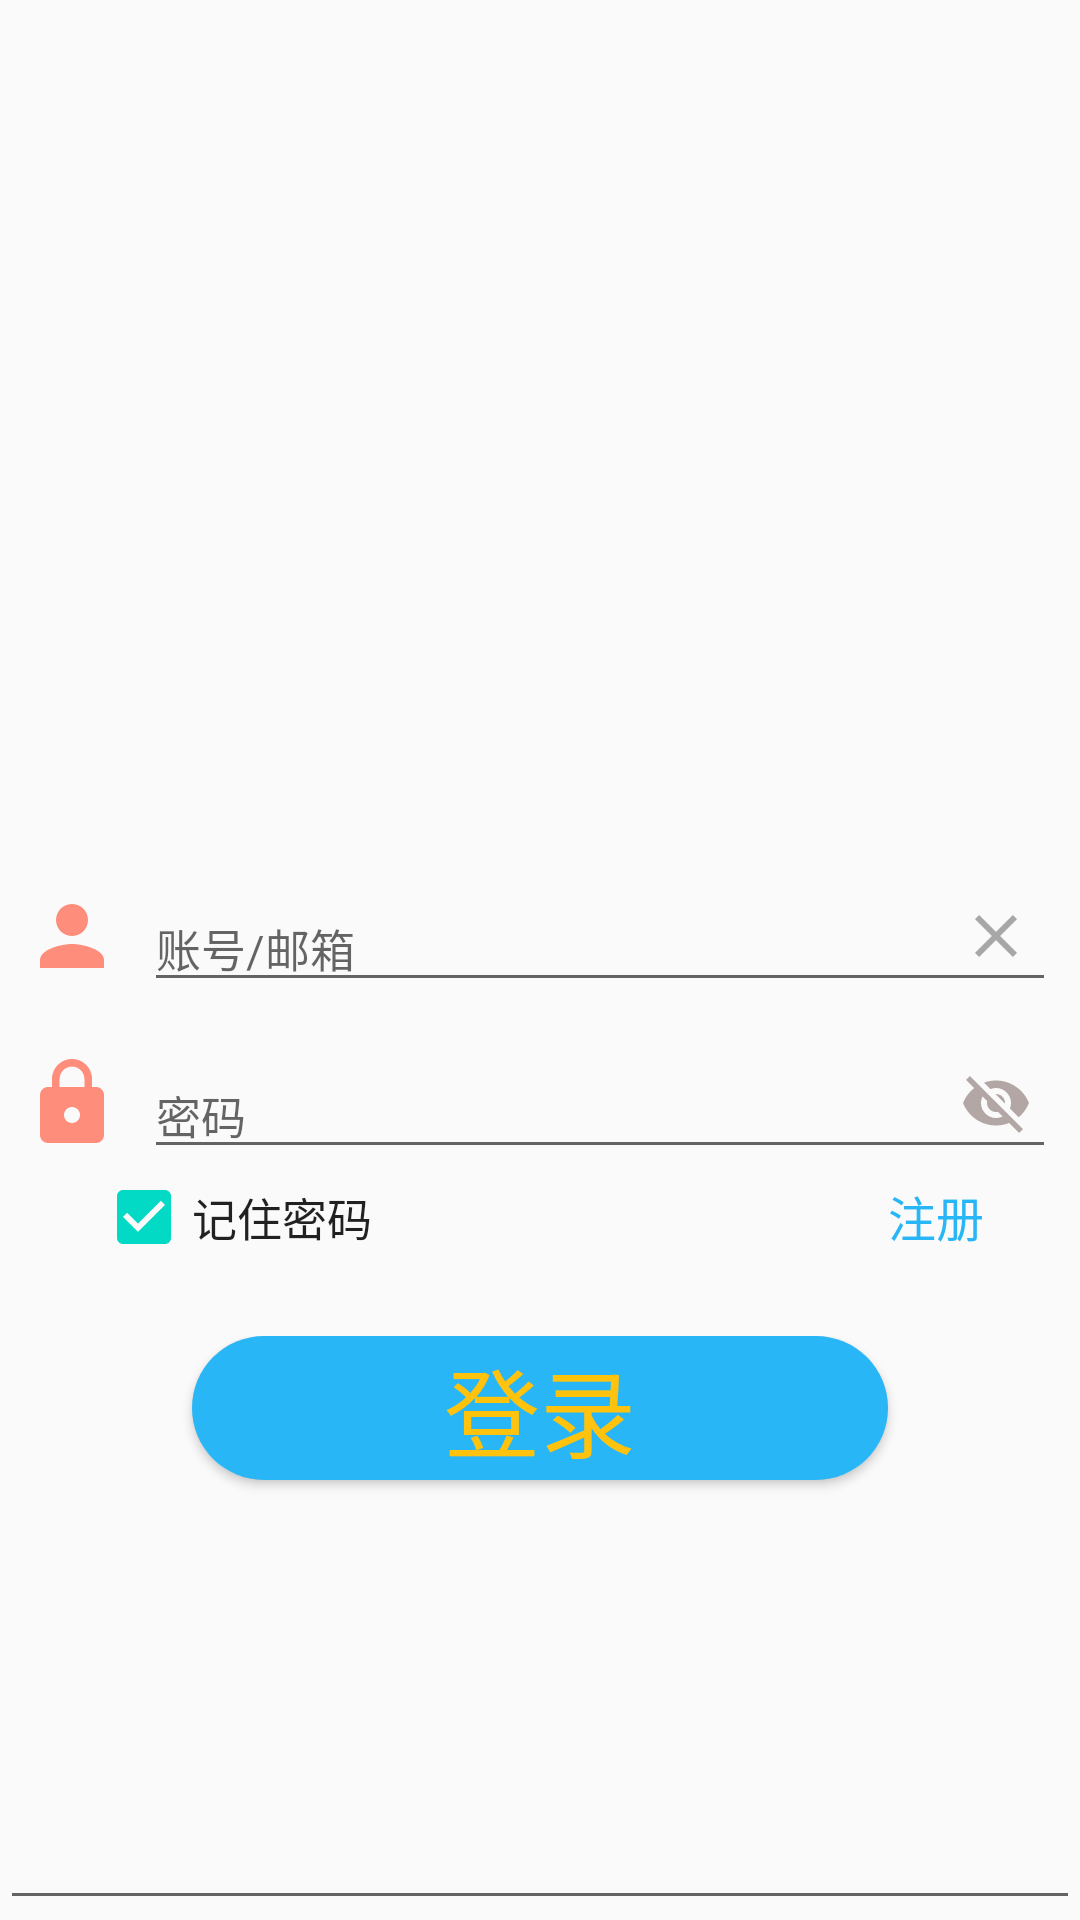

Icons on this 1080x1920 Android screen, each with the point to tap as [x,y]:
close: [996,936]
lock: [72,1101]
person: [72,936]
visibility off: [996,1104]
